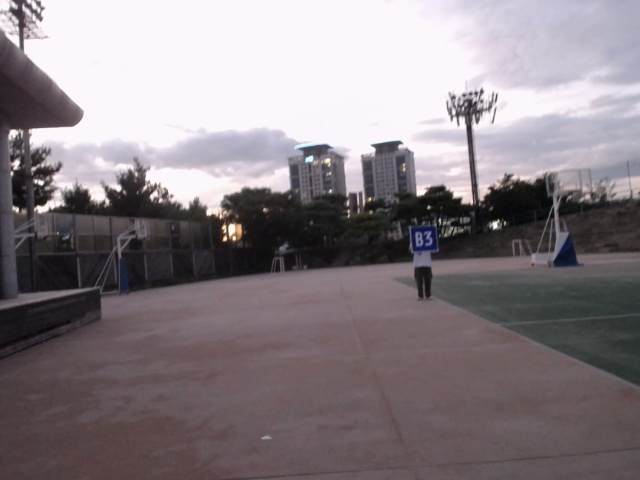delivery_b3: (409, 224, 439, 253)
